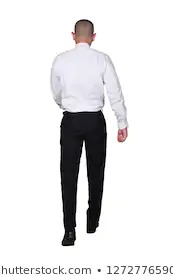F_dress pants: (56, 106, 106, 230)
